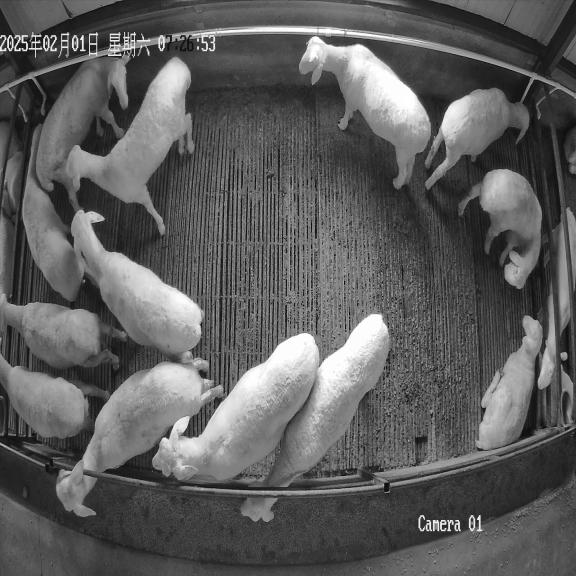drinking: (425, 88, 529, 189)
lying: (476, 316, 542, 450)
stand: (241, 314, 389, 522), (56, 358, 223, 516), (152, 333, 320, 480), (65, 57, 194, 234), (299, 36, 431, 188), (71, 210, 202, 359), (36, 57, 128, 210), (22, 126, 84, 300), (459, 169, 542, 289), (0, 294, 126, 369), (0, 354, 109, 438)
